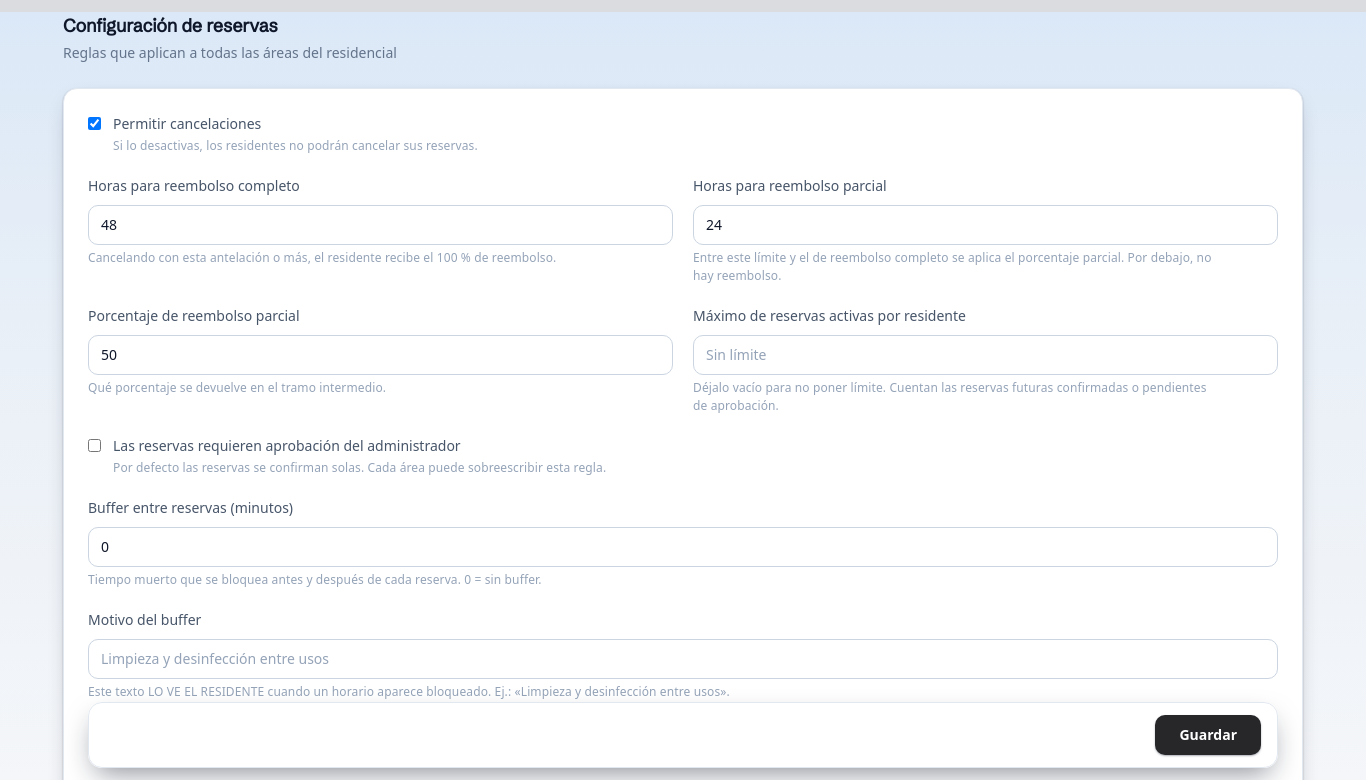
Test: Configuración de reservas: barra de acciones fija › también usa la barra fija y detecta los cambios
Expected: the text "Hay cambios sin guardar" is not shown
Replace the text in the number field showing "48" below "Horas para reembolso completo" with "72" at [380, 225], box 88,205 -> 673,245
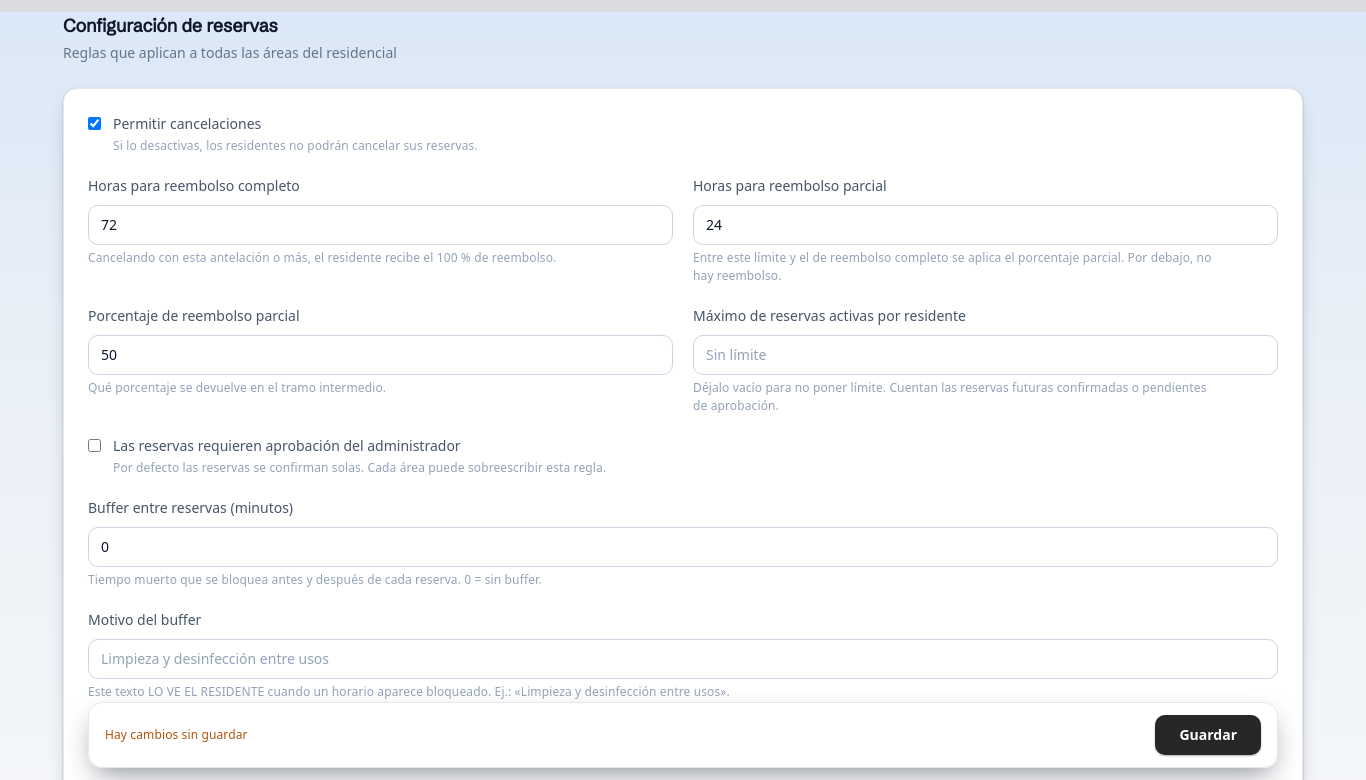
Now the text "Hay cambios sin guardar" is shown, box 105,726 -> 248,744
